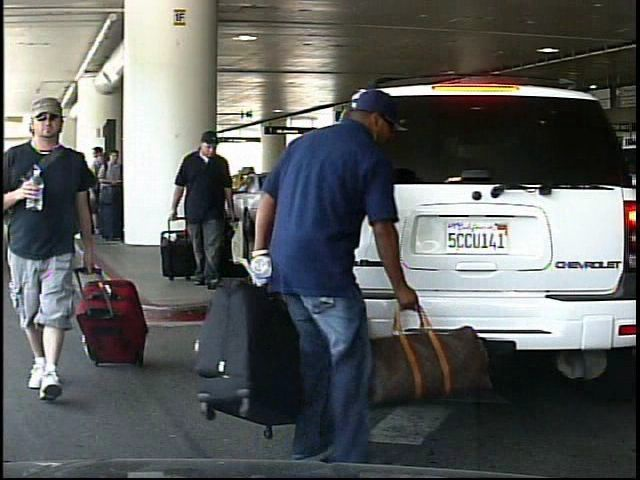person: (247, 76, 415, 469), (7, 97, 107, 405), (171, 129, 240, 286)
